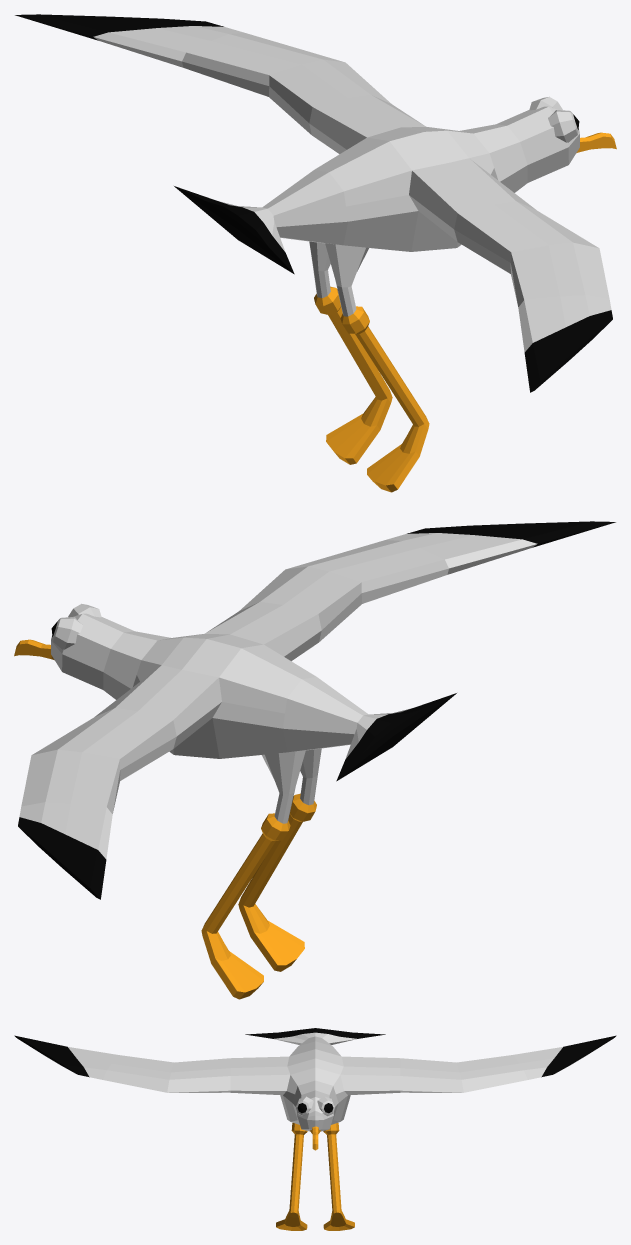
The model's file is Seagull.fbx.
The picture shows the model from 3 angles, top to bottom: view 1: azimuth 30°, elevation 25°; view 2: azimuth 150°, elevation 25°; view 3: azimuth 270°, elevation 25°; orthographic projection. The views are drawn at different scales.
Visible parts, largest first — view 1: Body, Leg, Sphere; view 2: Body, Leg, Sphere; view 3: Body, Leg, Sphere.
Boxes of the visible parts, <box> form: Body: <box>15,14,612,392</box>; Leg: <box>309,241,429,492</box>; Sphere: <box>529,96,579,142</box>; Body: <box>18,521,615,899</box>; Leg: <box>201,748,321,999</box>; Sphere: <box>51,603,101,649</box>; Body: <box>14,1028,616,1131</box>; Leg: <box>276,1123,354,1230</box>; Sphere: <box>296,1096,334,1116</box>.
Size of the model in its own units: 131 by 107 by 306.
